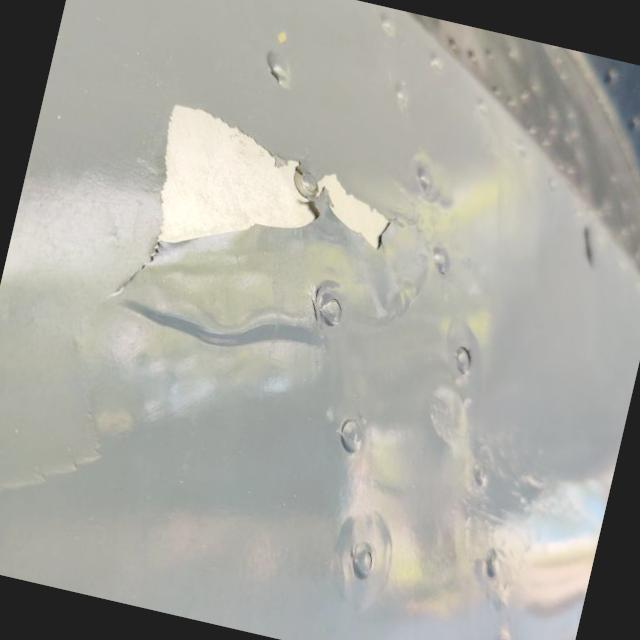paint-off: (68, 82, 474, 408)
